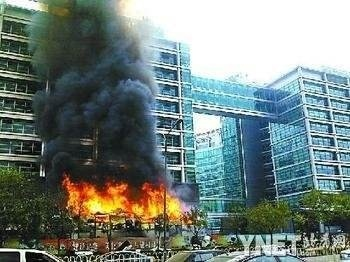fire: (59, 170, 188, 220)
